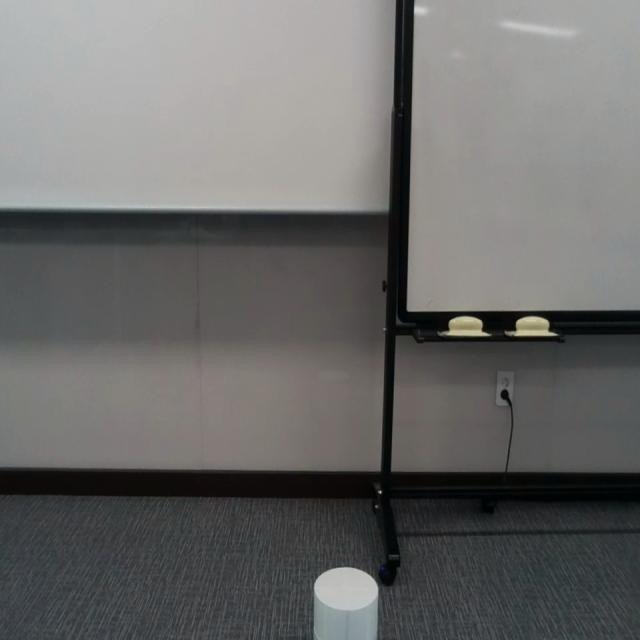cylinder: (313, 566, 379, 640)
